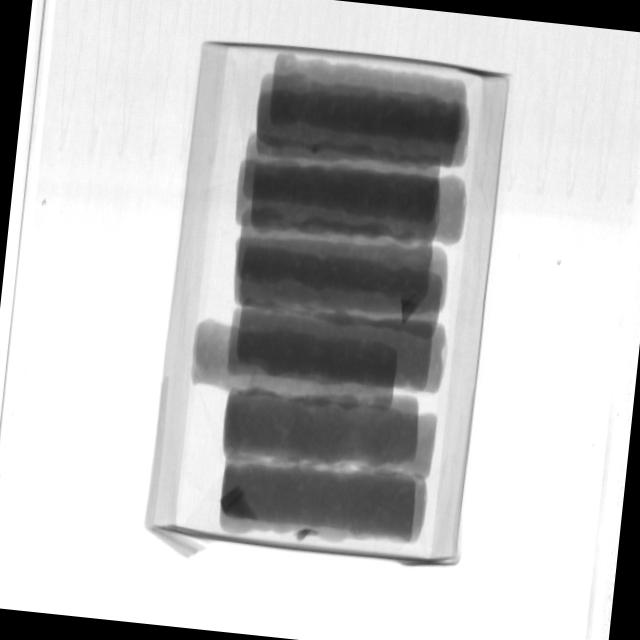ym: (219, 485, 261, 525), (292, 525, 322, 544), (399, 298, 420, 324)
